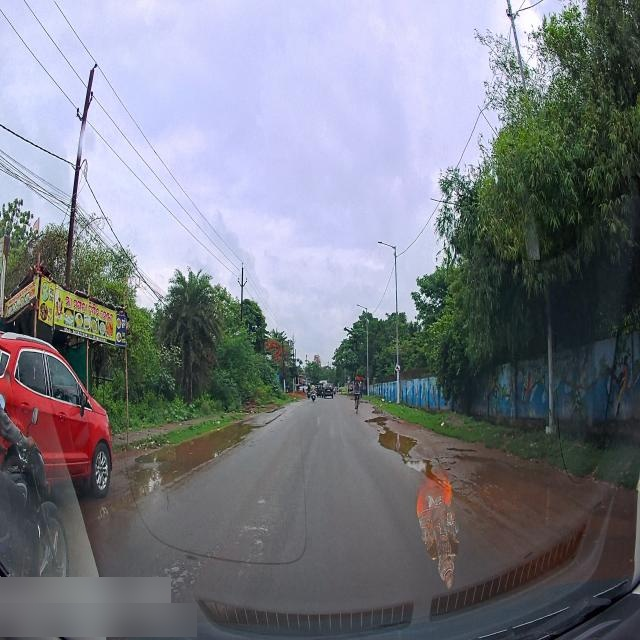pothole: (144, 448, 198, 484), (196, 422, 254, 448), (379, 434, 418, 456), (365, 415, 389, 426), (448, 448, 476, 454)
